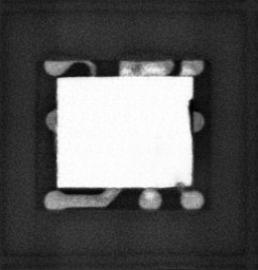DIE_BROKEN: (186, 95, 194, 139)
